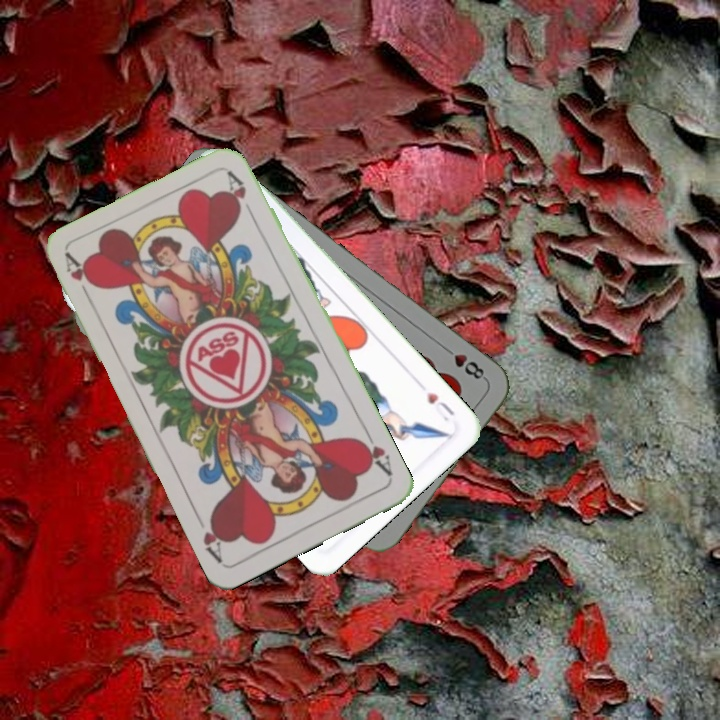H8: (439, 342, 489, 383)
HA: (352, 425, 395, 479), (60, 250, 98, 306)
HU: (422, 387, 457, 425)
